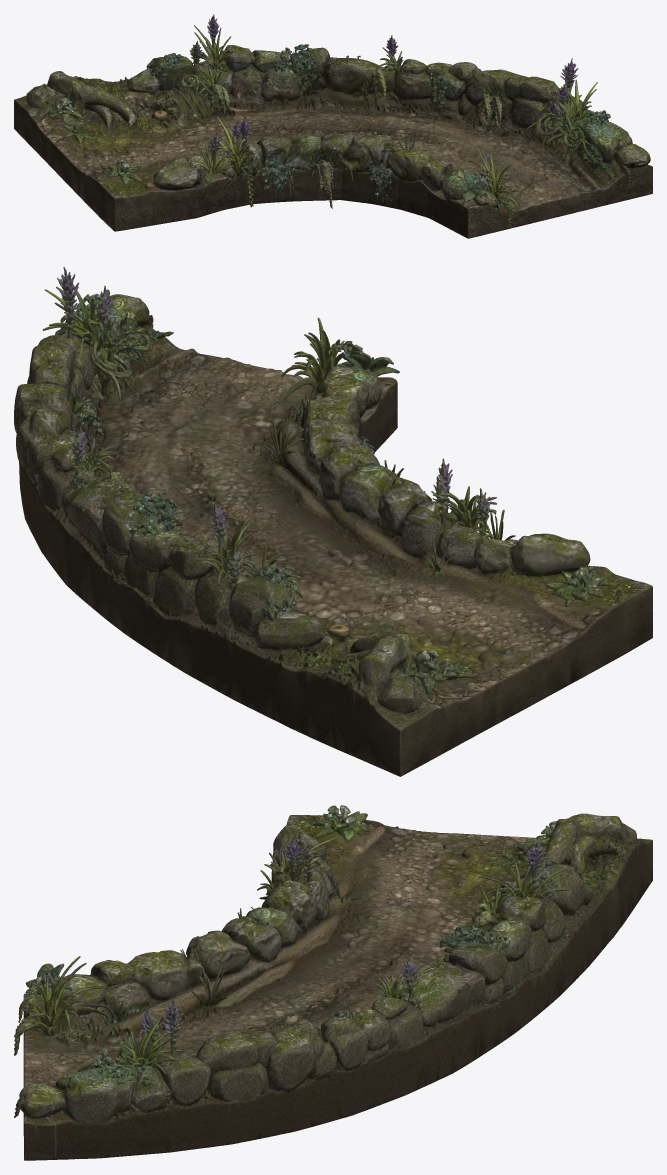
Rendered from Meshy_AI_riverbank_curved_0823035038_image-to-3d-texture.glb.
3 views of the same model, one above another, from view 1: azimuth 30°, elevation 25°; view 2: azimuth 150°, elevation 25°; view 3: azimuth 270°, elevation 25° (orthographic). The views are drawn at different scales.
Parts seen in each view (by area): view 1: mesh_node; view 2: mesh_node; view 3: mesh_node.
Part boxes in pixels (left/top/right/bottom): mesh_node: left=14, top=14, right=652, bottom=238; mesh_node: left=14, top=267, right=652, bottom=776; mesh_node: left=14, top=805, right=652, bottom=1160.
Bounding box in the file's own units: 1.9 × 0.4381 × 1.71.
1 material, 1 textured.
